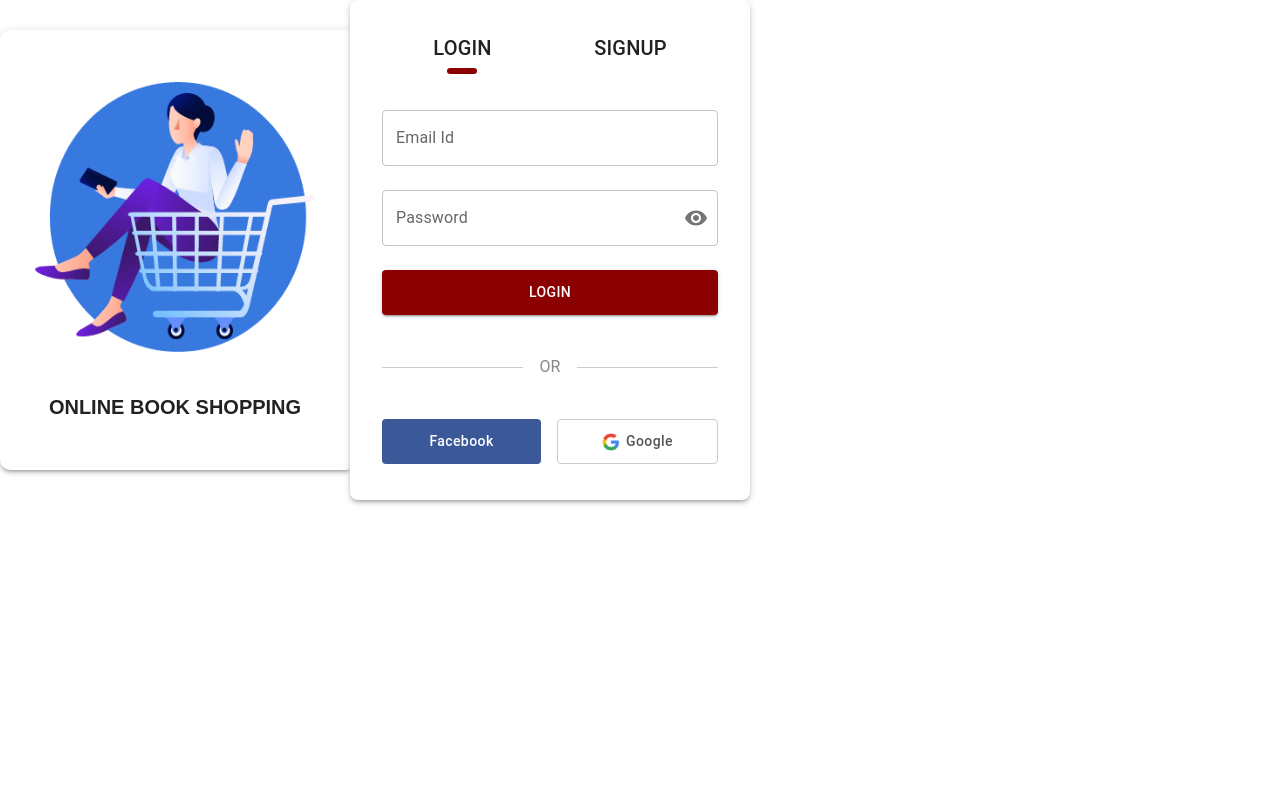
Scenario: AuthCard Component › shows error when full name is empty during signup
Switch to signup view
Click the text "SIGNUP" at [630, 48], box left=594, top=36, right=667, bottom=60
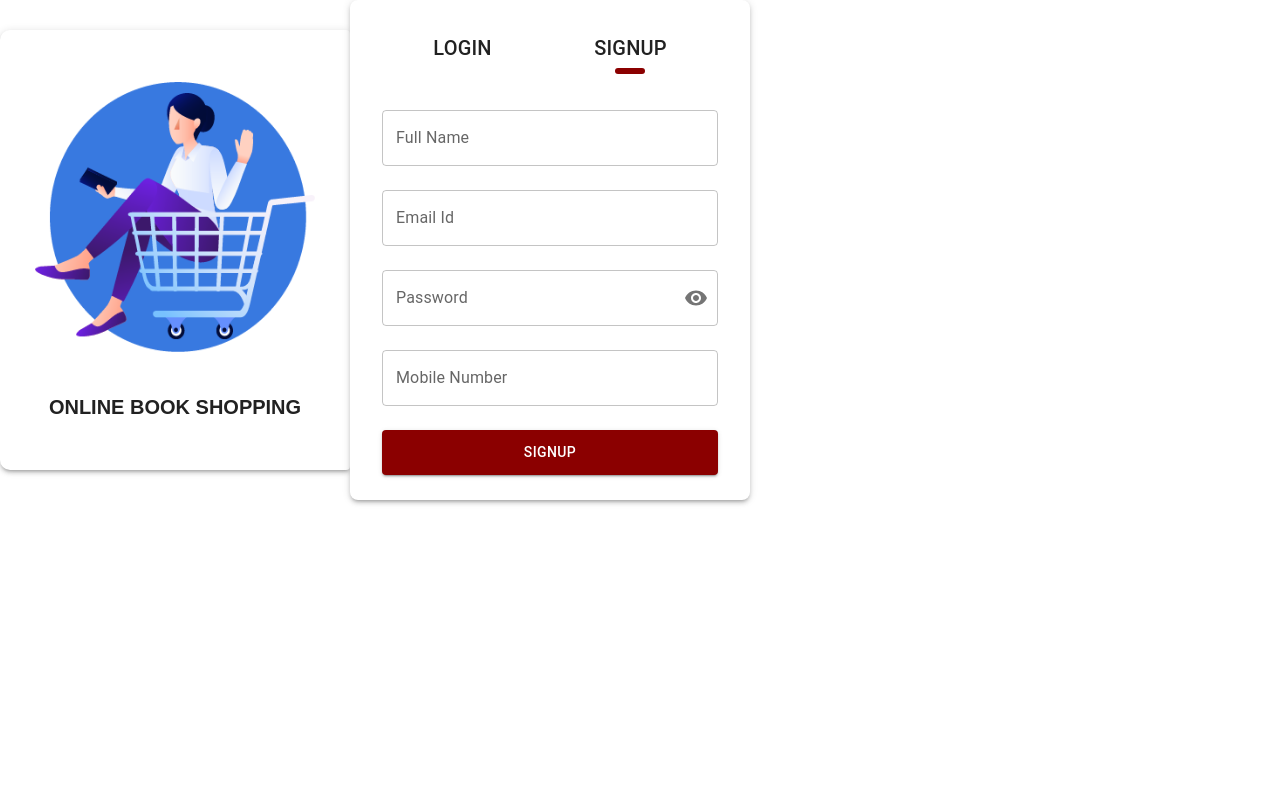
Simulate entering all fields except full name
Type "test@example.com" into the field labelled "Email Id" at [550, 218], box left=382, top=190, right=718, bottom=246
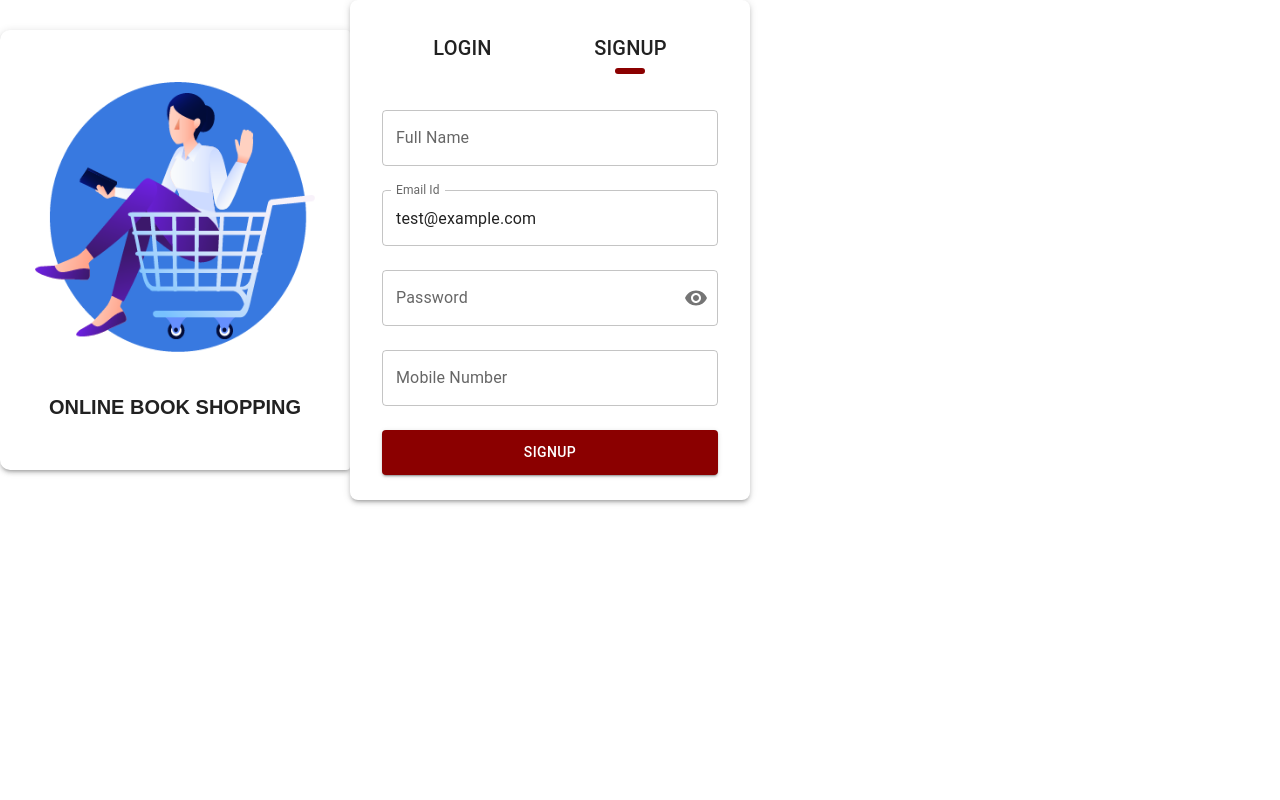
Type "password123" into the password field labelled "Password" at [525, 298], box left=382, top=270, right=668, bottom=326
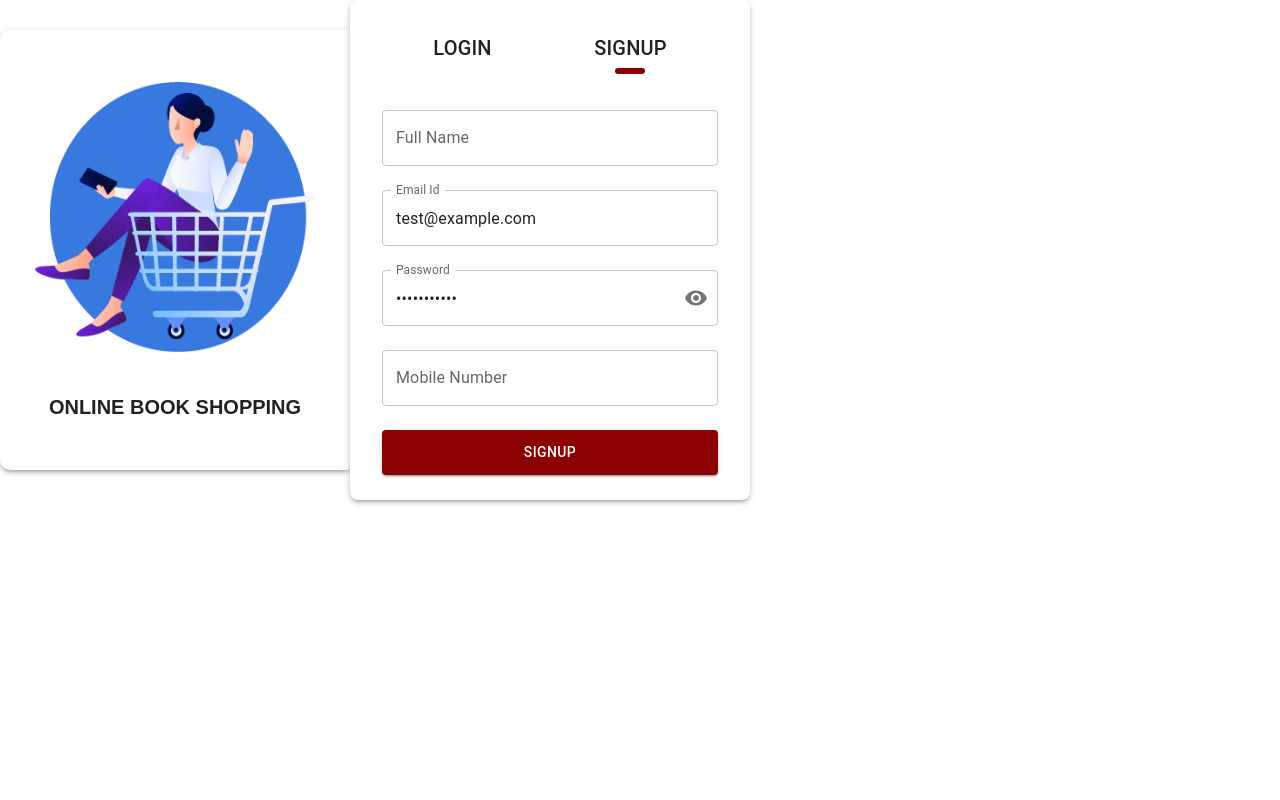
Type "1234567890" into the field labelled "Mobile Number" at [550, 378], box left=382, top=350, right=718, bottom=406
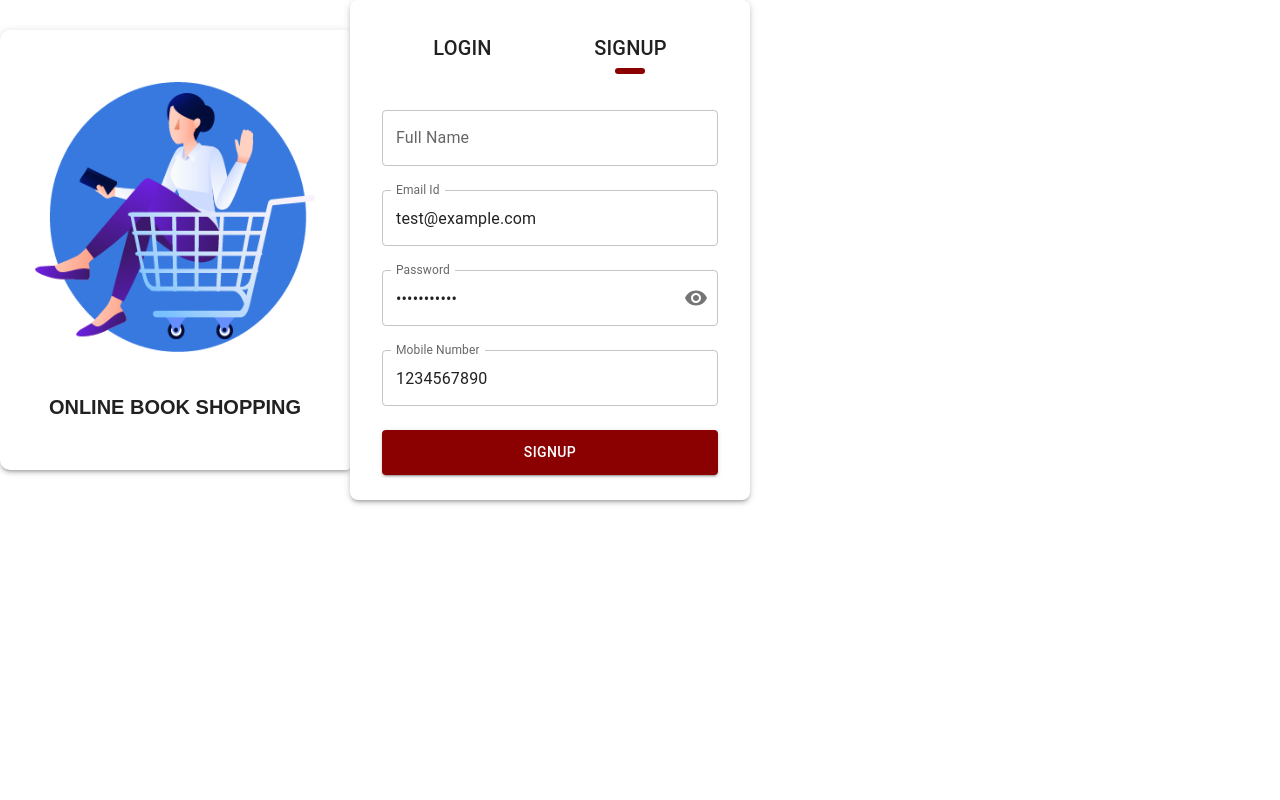
Simulate clicking the Signup button
Click the button "Signup" at [550, 452], box left=382, top=430, right=718, bottom=475
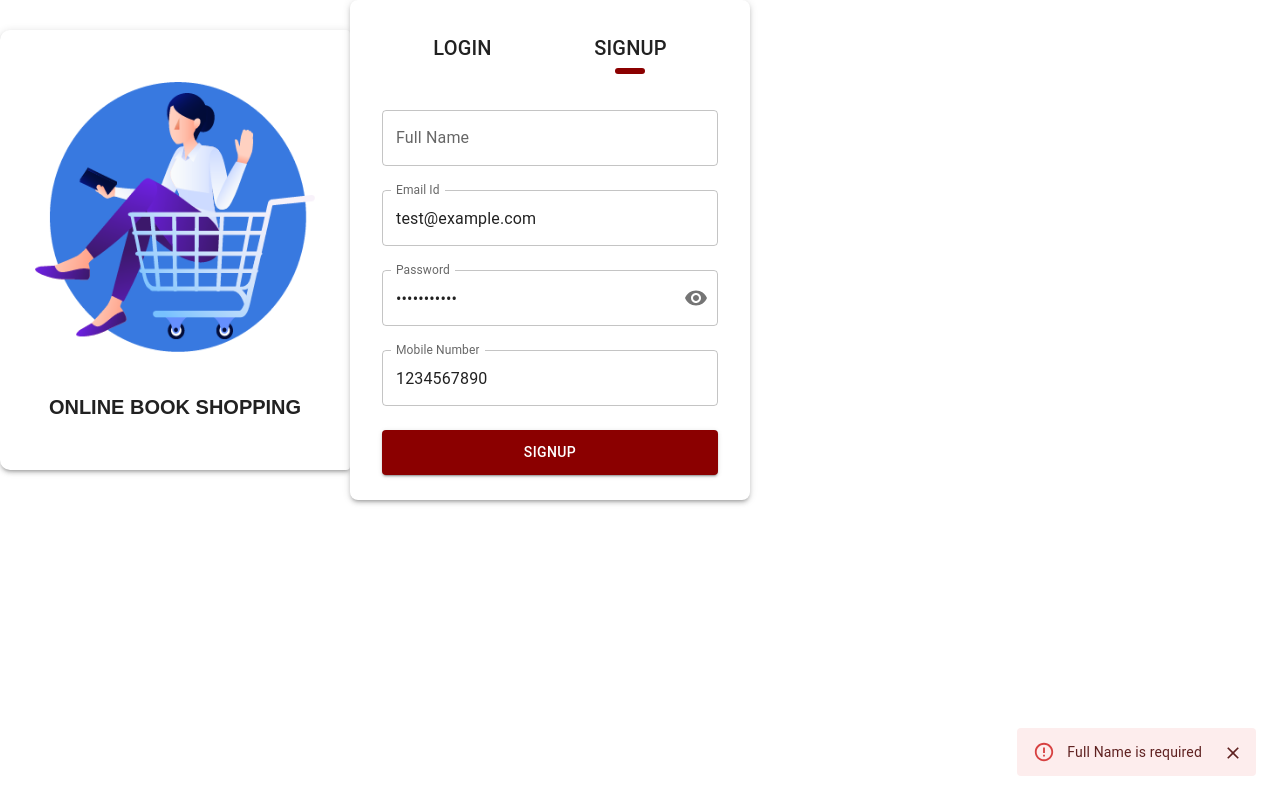
Expected: the text "Full Name is required" is shown, left=1067, top=744, right=1202, bottom=760
